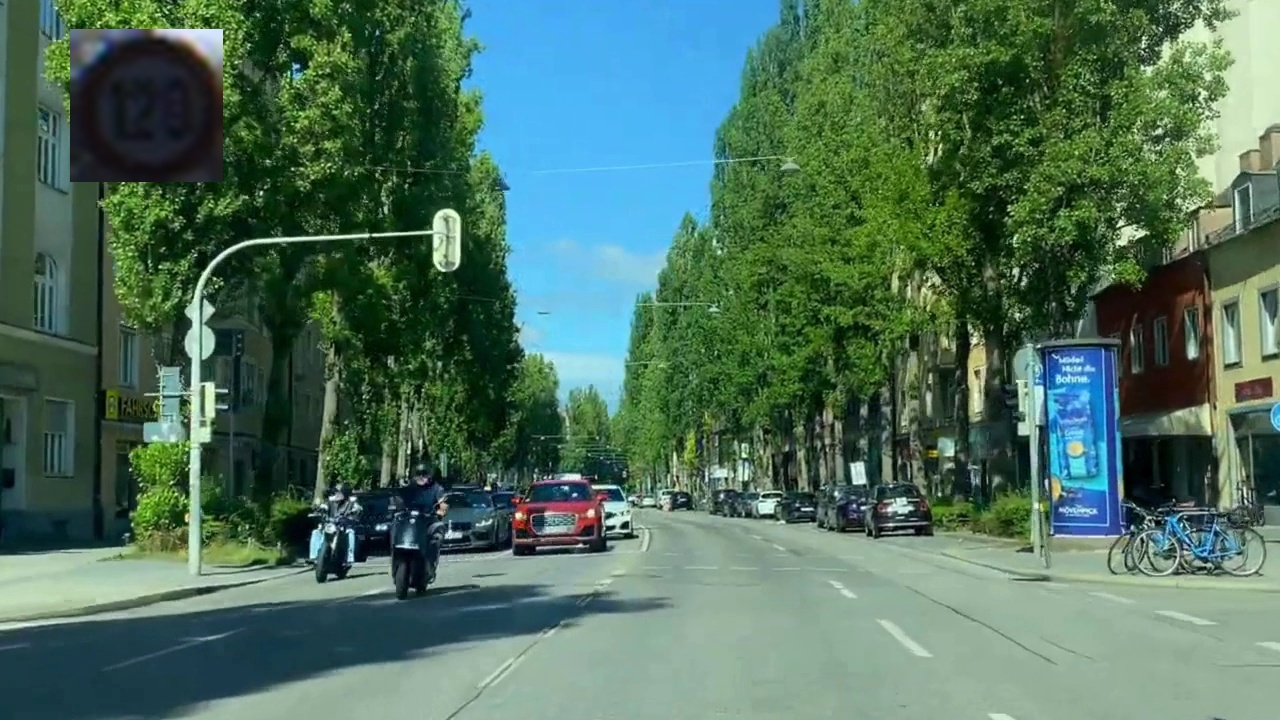Speed 120: (70, 29, 223, 182)
